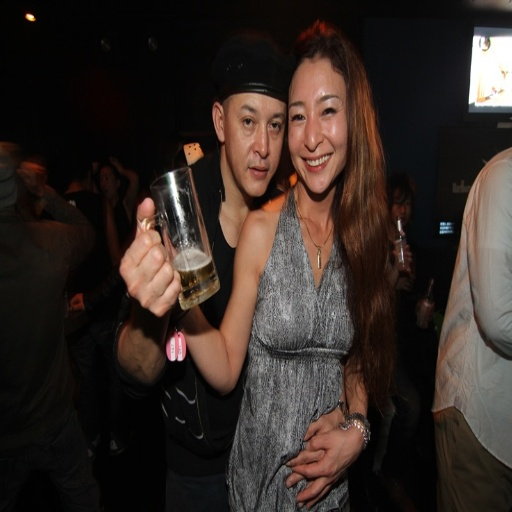hand: (117, 195, 183, 321), (284, 411, 346, 510), (17, 160, 46, 199), (392, 241, 412, 271), (109, 153, 123, 177)
